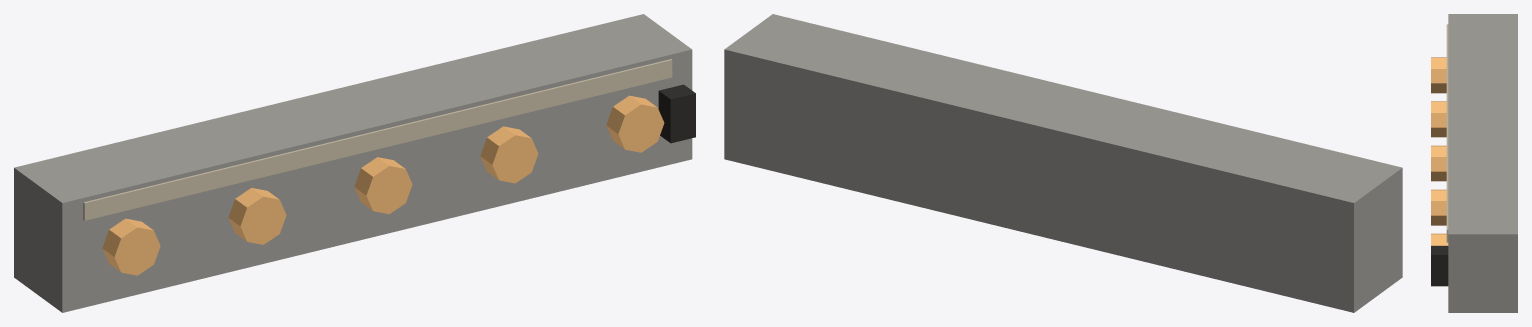
Rendered from pilot-lamp-strip.glb.
The picture shows the model from 3 angles, left to right: view 1: azimuth 30°, elevation 25°; view 2: azimuth 150°, elevation 25°; view 3: azimuth 270°, elevation 25°; orthographic projection. The views are drawn at different scales.
Visible parts, largest first — view 1: brushed, emissive-warm, paper, plastic-dark; view 2: brushed; view 3: brushed, emissive-warm, plastic-dark, paper.
Part boxes in pixels (x1=…): brushed: x1=14, y1=14, x2=692, y2=312; emissive-warm: x1=102, y1=95, x2=664, y2=275; paper: x1=83, y1=59, x2=672, y2=220; plastic-dark: x1=658, y1=84, x2=695, y2=143; brushed: x1=724, y1=14, x2=1402, y2=312; brushed: x1=1448, y1=14, x2=1517, y2=312; emissive-warm: x1=1431, y1=57, x2=1448, y2=245; plastic-dark: x1=1431, y1=246, x2=1448, y2=286; paper: x1=1446, y1=24, x2=1448, y2=242.
Size of the model in its own units: 0.3 by 0.05 by 0.05.
